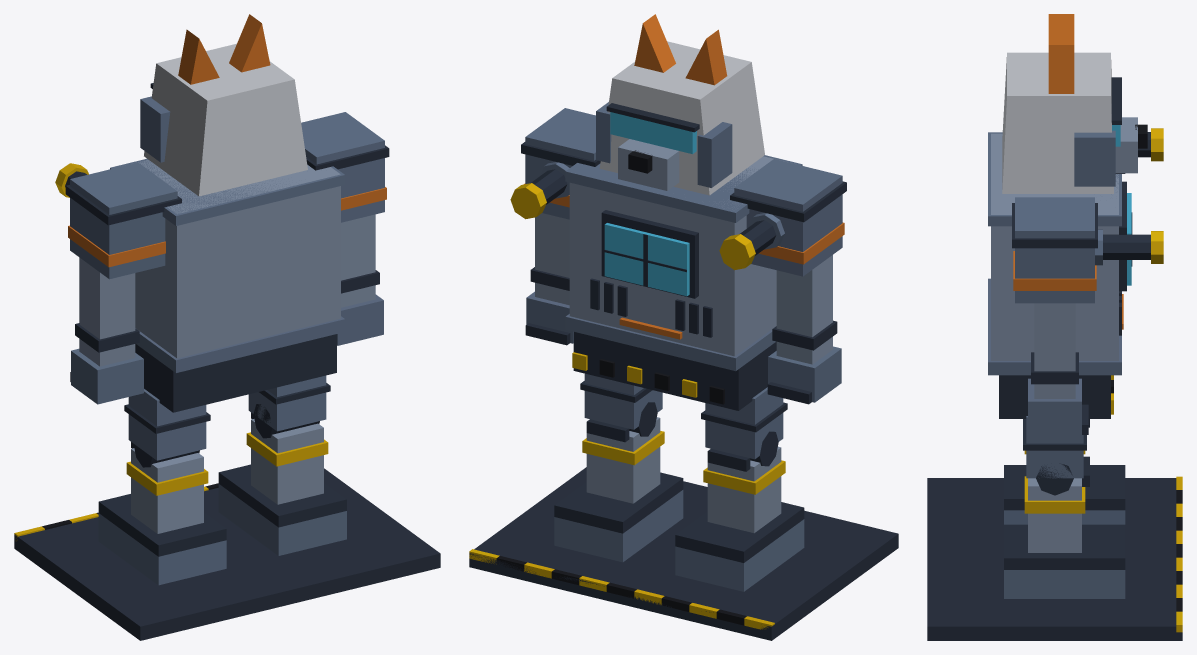
The model's file is Decor_MechaHangar_Colossus.fbx.
3 views of the same model, side by side, from view 1: azimuth 30°, elevation 25°; view 2: azimuth 150°, elevation 25°; view 3: azimuth 270°, elevation 25° (orthographic).
Parts seen in each view (by area): view 1: Colossus_Body; view 2: Colossus_Body; view 3: Colossus_Body.
Boxes of the visible parts, x1,y1,x2,y2 form: Colossus_Body: (14,14,440,640); Colossus_Body: (469,14,898,640); Colossus_Body: (927,14,1182,640).
Size of the model in its own units: 22 by 37.1 by 16.
